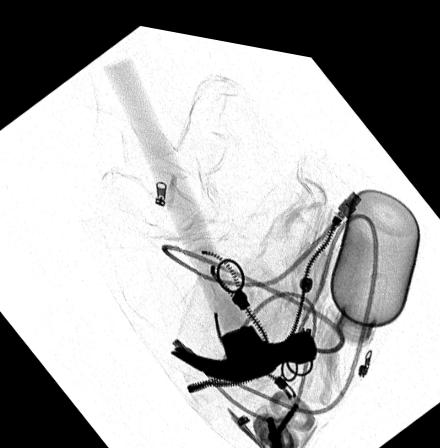Hammer: (103, 51, 316, 372)
